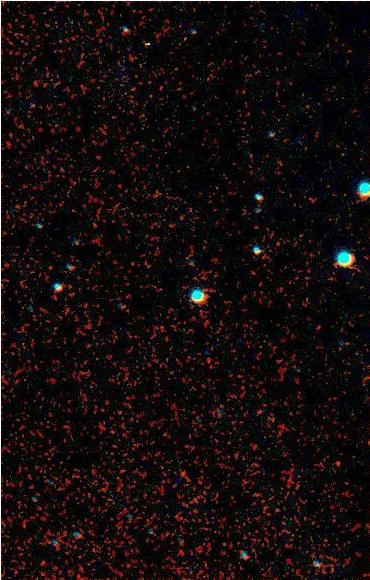star: (323, 447, 353, 477)
